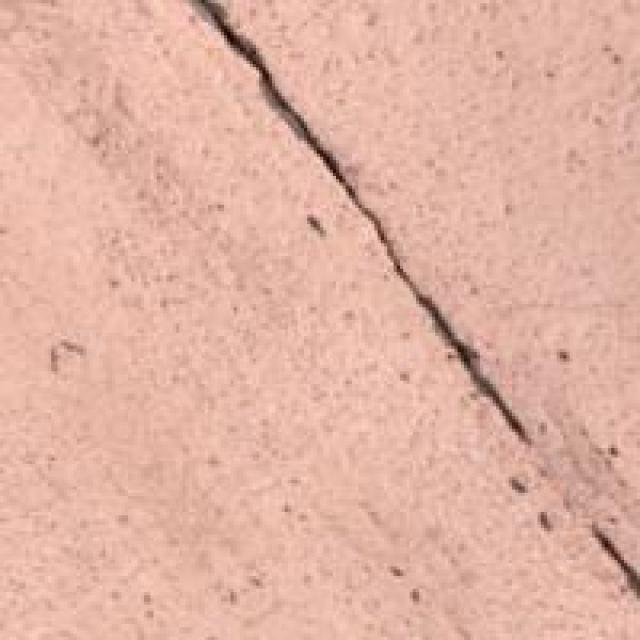Crack: (208, 0, 637, 595)
